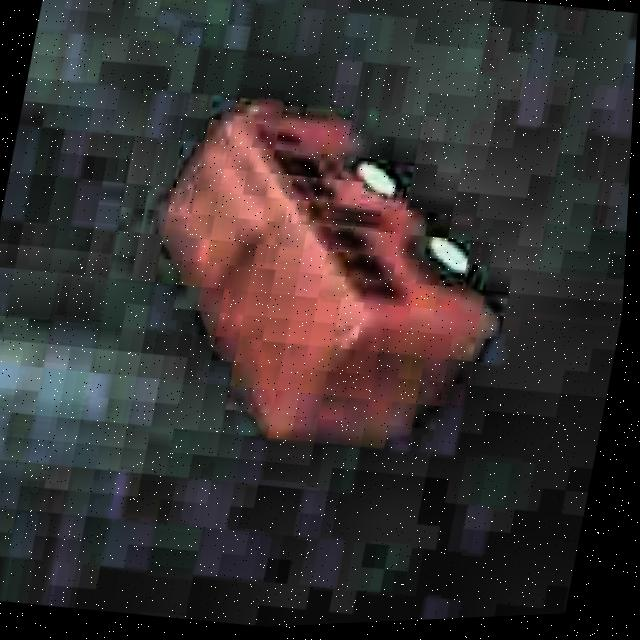bus: (111, 66, 554, 478)
